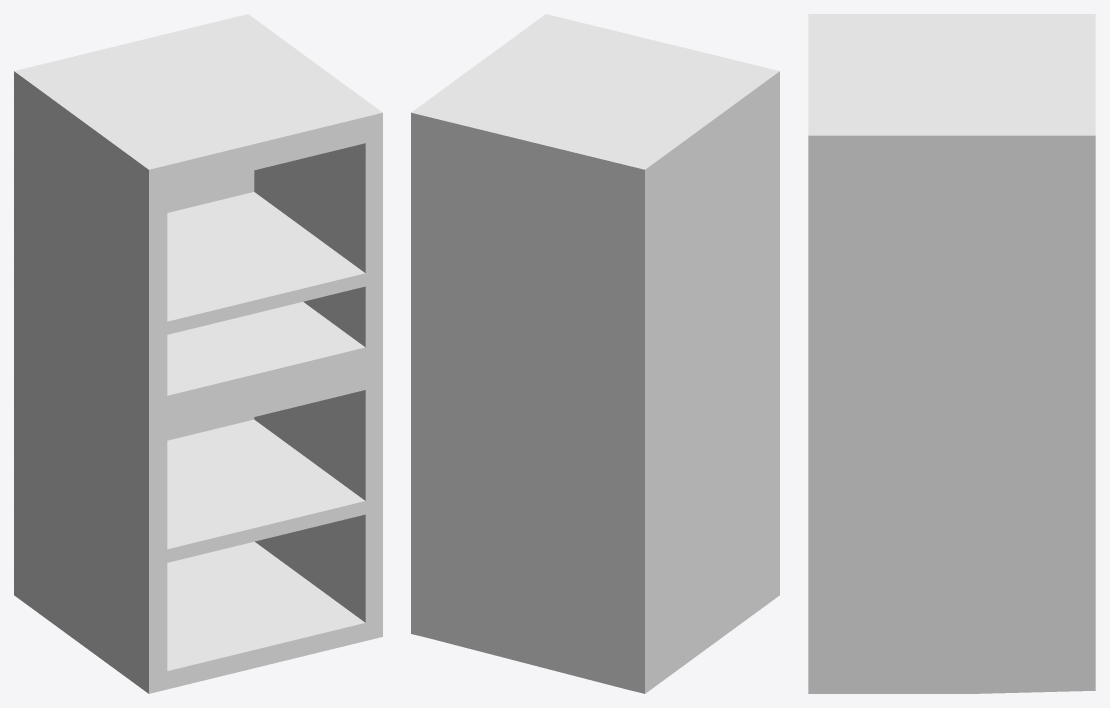
File: fridge body.fbx
3 views of the same model, side by side, from view 1: azimuth 30°, elevation 25°; view 2: azimuth 150°, elevation 25°; view 3: azimuth 270°, elevation 25° (orthographic). The views are drawn at different scales.
Visible parts, largest first — view 1: fridge_body; view 2: fridge_body; view 3: fridge_body.
Part boxes in pixels (x1,y1,x2,y2): fridge_body: [14, 14, 382, 693]; fridge_body: [411, 14, 779, 693]; fridge_body: [808, 14, 1095, 693].
Bounding box in the file's own units: 151 × 323 × 151.
Materials: 1 (1 with a texture image).
